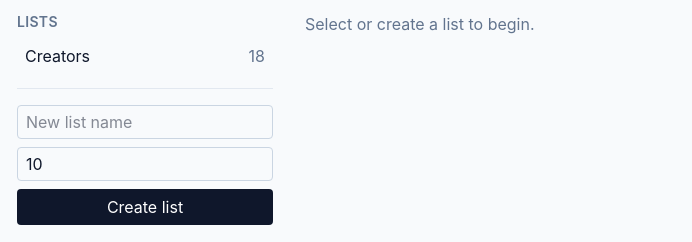
Test: WaitingListsView › shows an empty placeholder for a list with no cohorts
Click the button "Creators 18" at (145, 56), box [17,40,273,72]
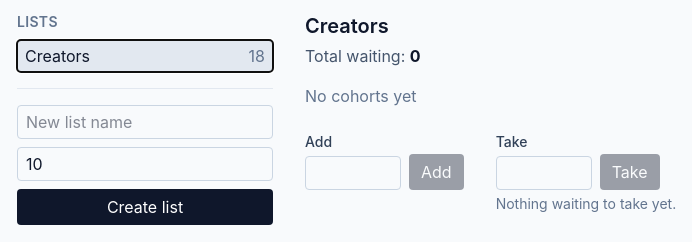
Now the text "Total waiting:" shows "0", box [410,46,421,66]
Now the text "No cohorts yet" is shown, box [305,86,416,106]
